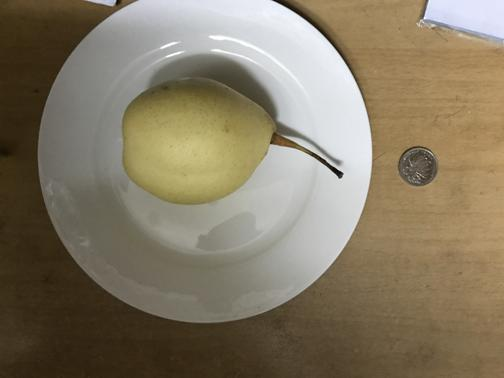coin: (396, 146, 438, 185)
pear: (122, 77, 277, 204)
